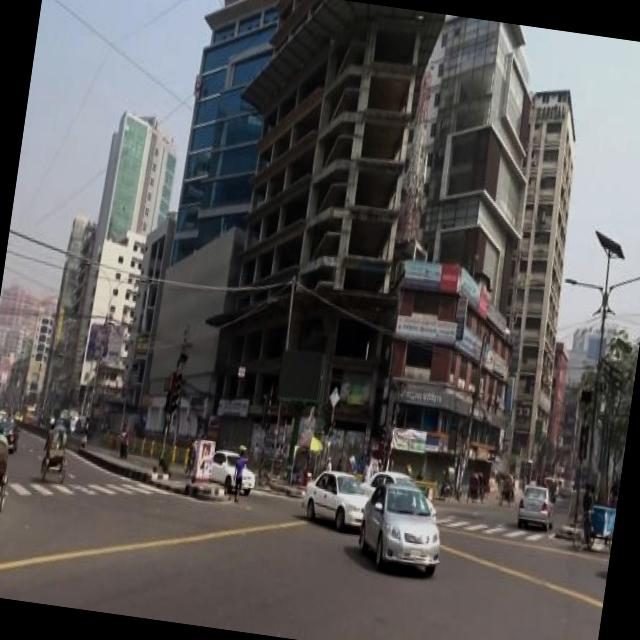car: (354, 477, 450, 574), (356, 464, 442, 519), (299, 466, 369, 528), (208, 447, 258, 492), (516, 482, 559, 528), (0, 416, 20, 449)
motorcycle: (38, 422, 72, 483), (0, 428, 14, 512), (440, 463, 467, 505), (497, 469, 518, 505), (466, 471, 482, 502), (345, 452, 361, 476), (117, 436, 129, 458), (404, 460, 414, 473)
